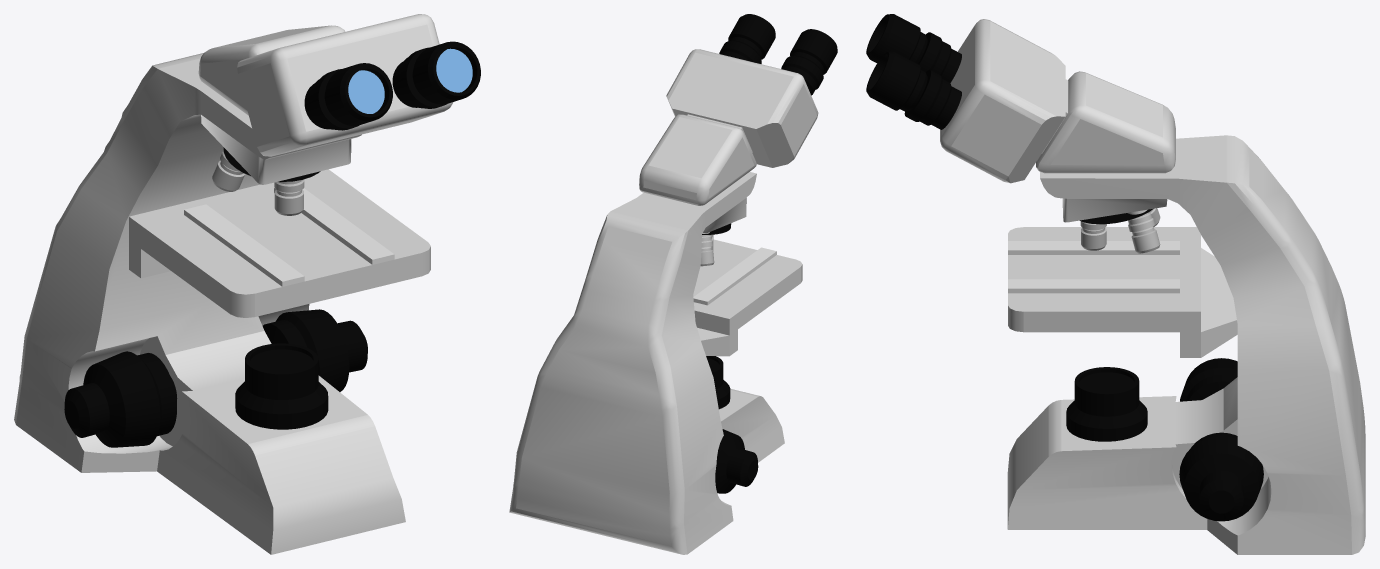
File: L-22-micro.fbx
3 views of the same model, side by side, from view 1: azimuth 30°, elevation 25°; view 2: azimuth 150°, elevation 25°; view 3: azimuth 270°, elevation 25° (orthographic). The views are drawn at different scales.
Visible parts, largest first — view 1: L-22-micro; view 2: L-22-micro; view 3: L-22-micro.
Boxes of the visible parts, x1=… form: L-22-micro: x1=14, y1=14, x2=480, y2=554; L-22-micro: x1=509, y1=14, x2=837, y2=554; L-22-micro: x1=866, y1=14, x2=1365, y2=554.
Size of the model in its own units: 20.68 by 36.46 by 35.41.
